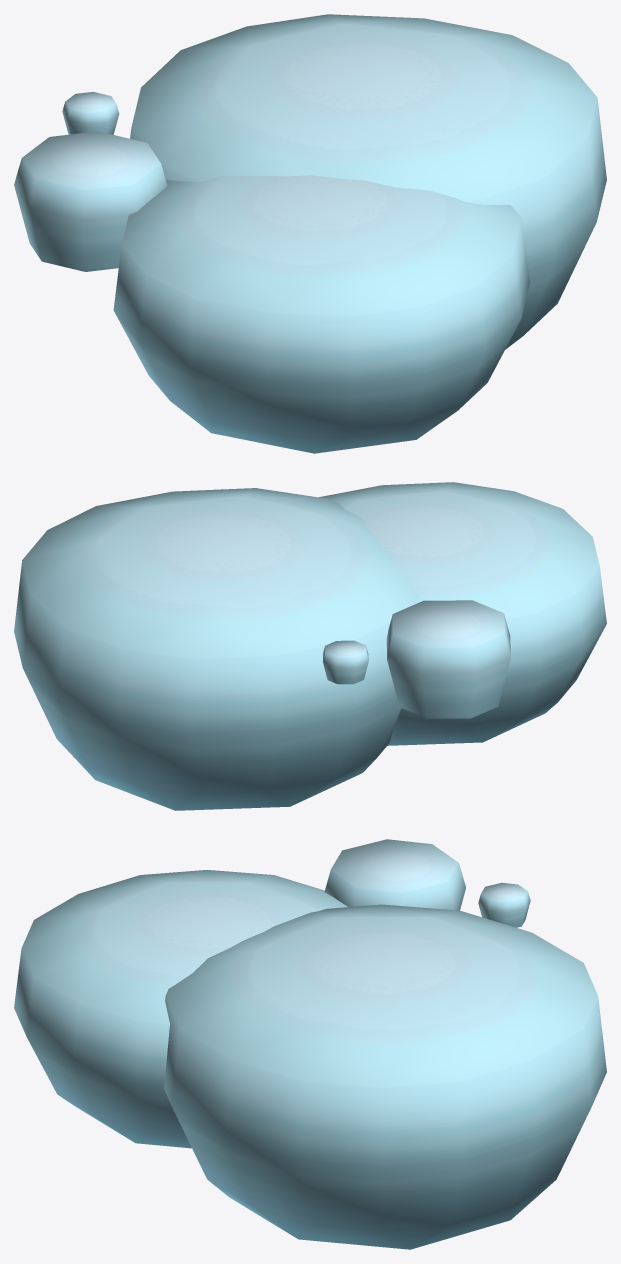
The model's file is FloorDeco1B-001_02_19_6923.fbx.
3 views of the same model, one above another, from view 1: azimuth 30°, elevation 25°; view 2: azimuth 150°, elevation 25°; view 3: azimuth 270°, elevation 25° (orthographic). The views are drawn at different scales.
Visible parts, largest first — view 1: Snowpile (1), Snowpile, Snowpile (7), Snowpile (6); view 2: Snowpile, Snowpile (1), Snowpile (7), Snowpile (6); view 3: Snowpile, Snowpile (1), Snowpile (7), Snowpile (6).
Part boxes in pixels (x1,y1,x2,y2): Snowpile (1): (113, 175, 529, 453); Snowpile: (130, 14, 606, 349); Snowpile (7): (14, 131, 167, 271); Snowpile (6): (62, 92, 119, 134); Snowpile: (14, 488, 418, 810); Snowpile (1): (319, 482, 606, 745); Snowpile (7): (386, 600, 510, 718); Snowpile (6): (323, 640, 368, 684); Snowpile: (164, 904, 606, 1249); Snowpile (1): (14, 870, 347, 1148); Snowpile (7): (324, 839, 465, 910); Snowpile (6): (478, 882, 530, 927).
Bounding box in the file's own units: 2.21 × 0.9757 × 2.27.
